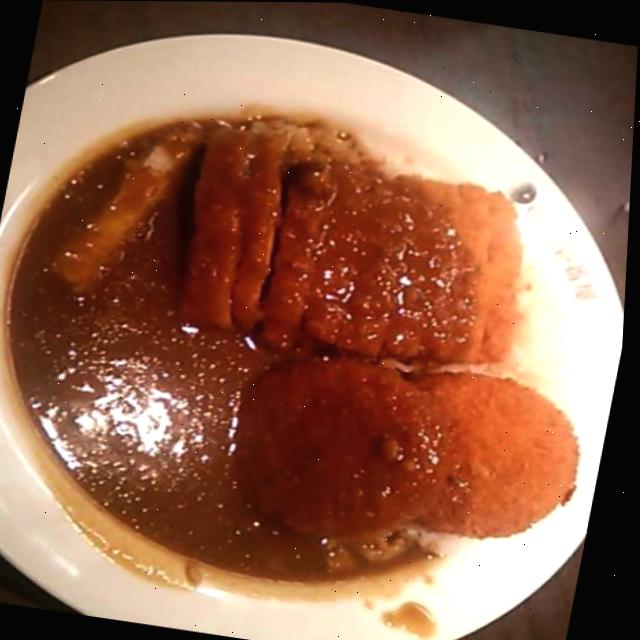鸡肉料理 含炸鸡: (0, 45, 638, 638)
